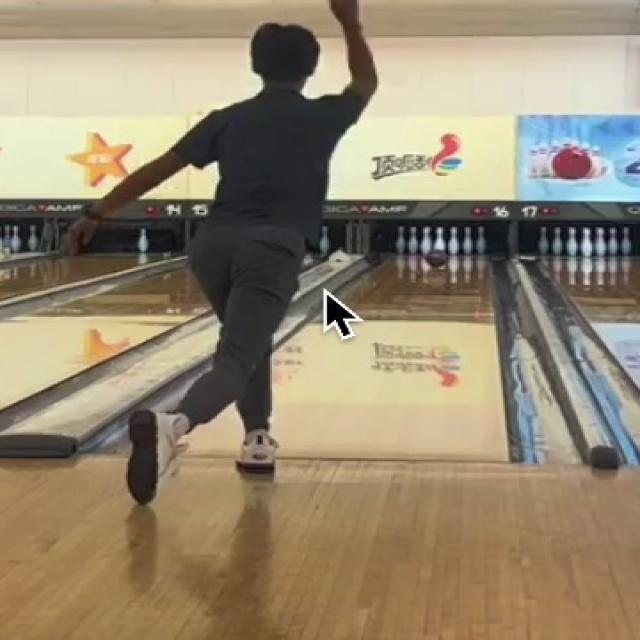alley: (272, 250, 507, 458)
balls: (425, 249, 446, 266)
bottle: (395, 224, 485, 255)
